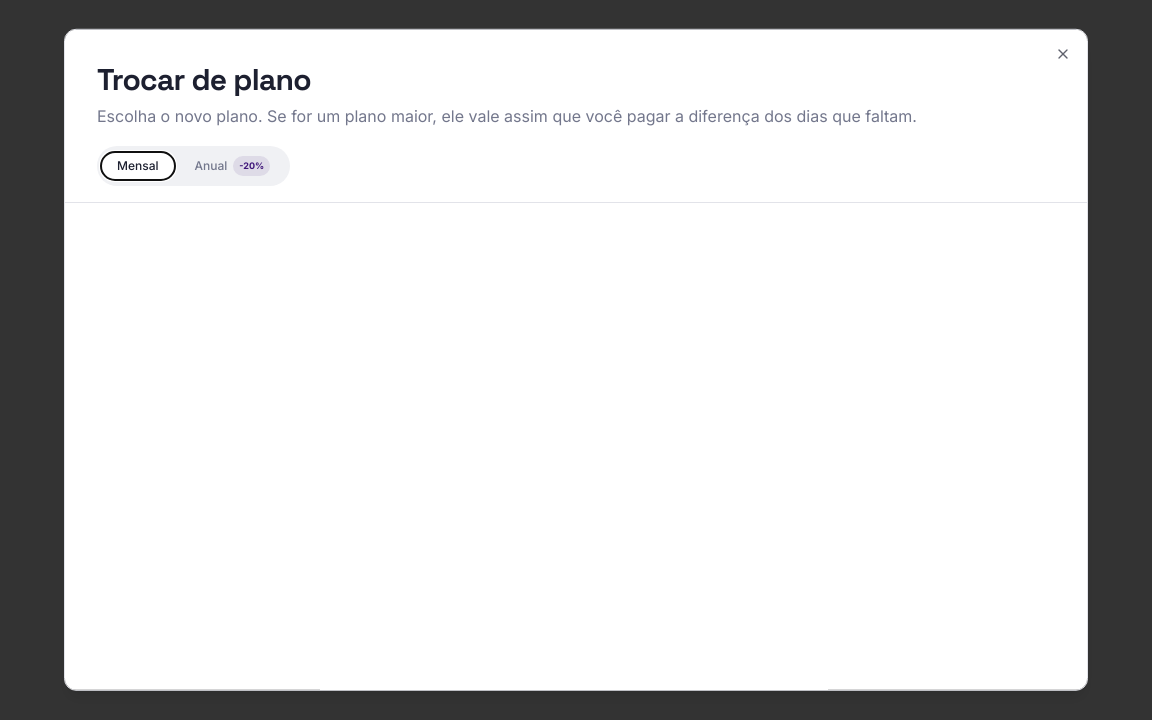
Test: P48 mesmo plano mensal -> anual › (a) ativo mensal 3 ciclos + Anual: card do Presença mostra o botão, não o rótulo; demais cards seguem com botões
Click the button "Anual -20%" at (232, 166), box [178,150,286,182]
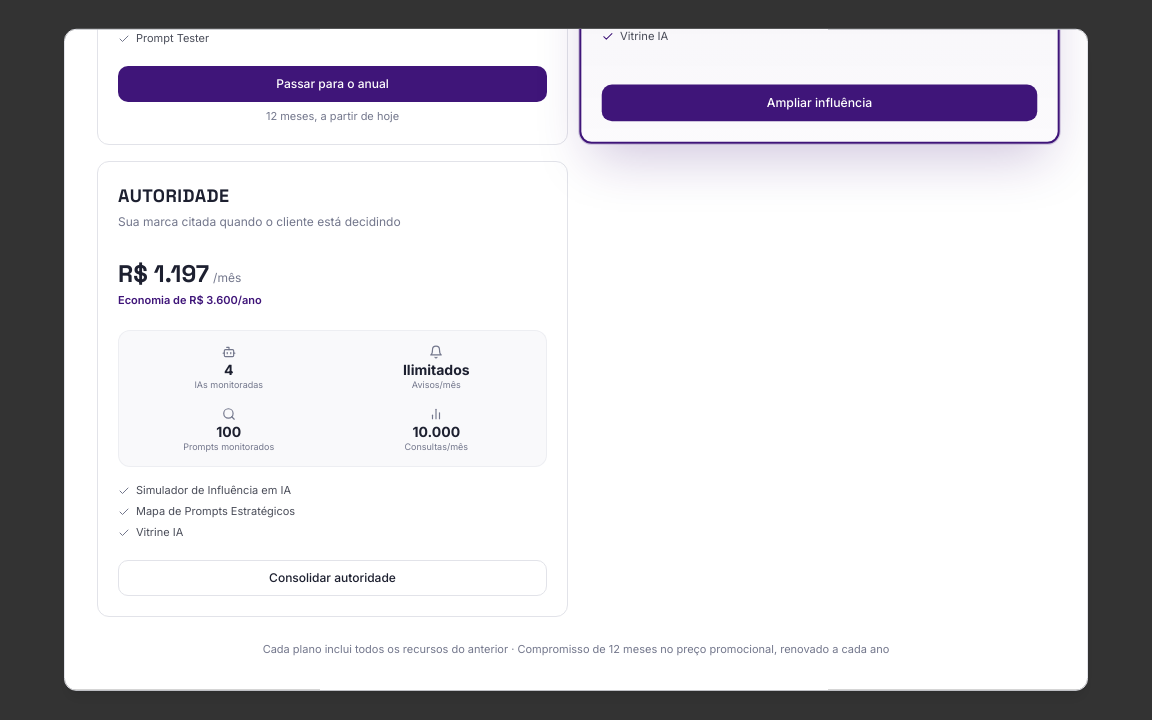
Now the button "Passar para o anual" is shown, box [118,66,547,102]
Now the button "Ampliar influência" is shown, box [602,85,1037,122]
Now the button "Consolidar autoridade" is shown, box [118,560,547,596]
